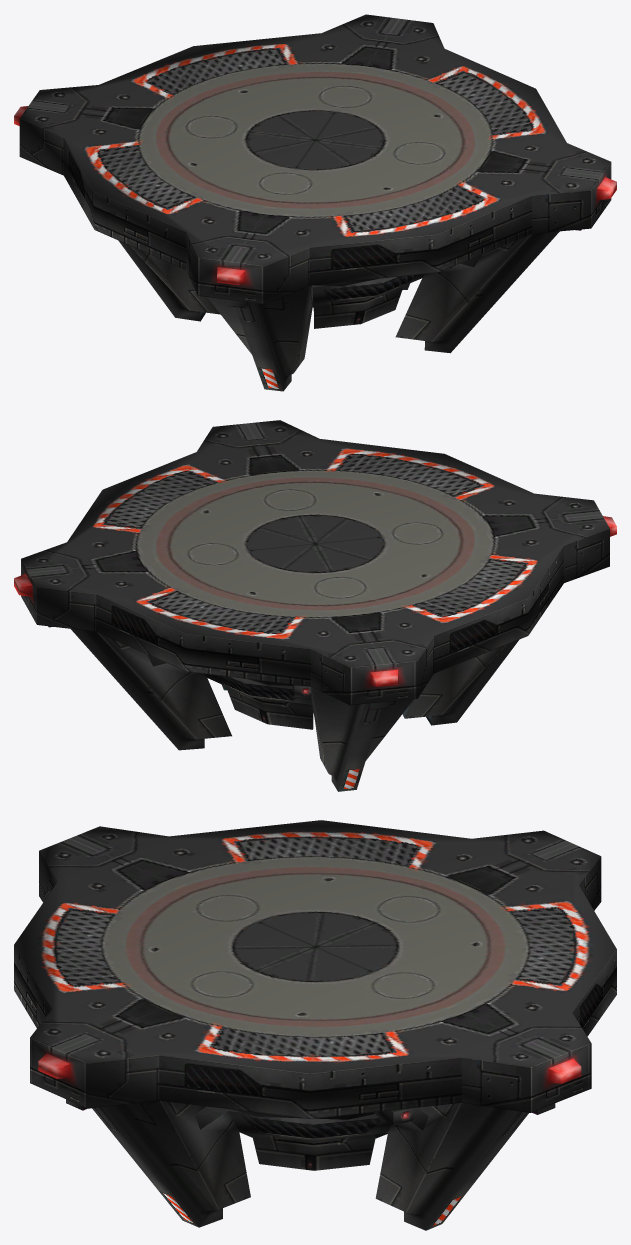
The model's file is startpoint1.glb.
3 renders of one model, top to bottom at view 1: azimuth 30°, elevation 25°; view 2: azimuth 150°, elevation 25°; view 3: azimuth 270°, elevation 25°, orthographic. The views are drawn at different scales.
Parts seen in each view (by area): view 1: Cylinder06; view 2: Cylinder06; view 3: Cylinder06, __lithtech_lh_to_gltf_rh__.
Part boxes in pixels (x1=…): Cylinder06: x1=14, y1=14, x2=616, y2=391; Cylinder06: x1=14, y1=420, x2=616, y2=791; Cylinder06: x1=14, y1=820, x2=616, y2=1230; __lithtech_lh_to_gltf_rh__: x1=233, y1=1108, x2=413, y2=1125.
Size of the model in its own units: 119 by 50.14 by 120.
Materials: 1 (1 with a texture image).
